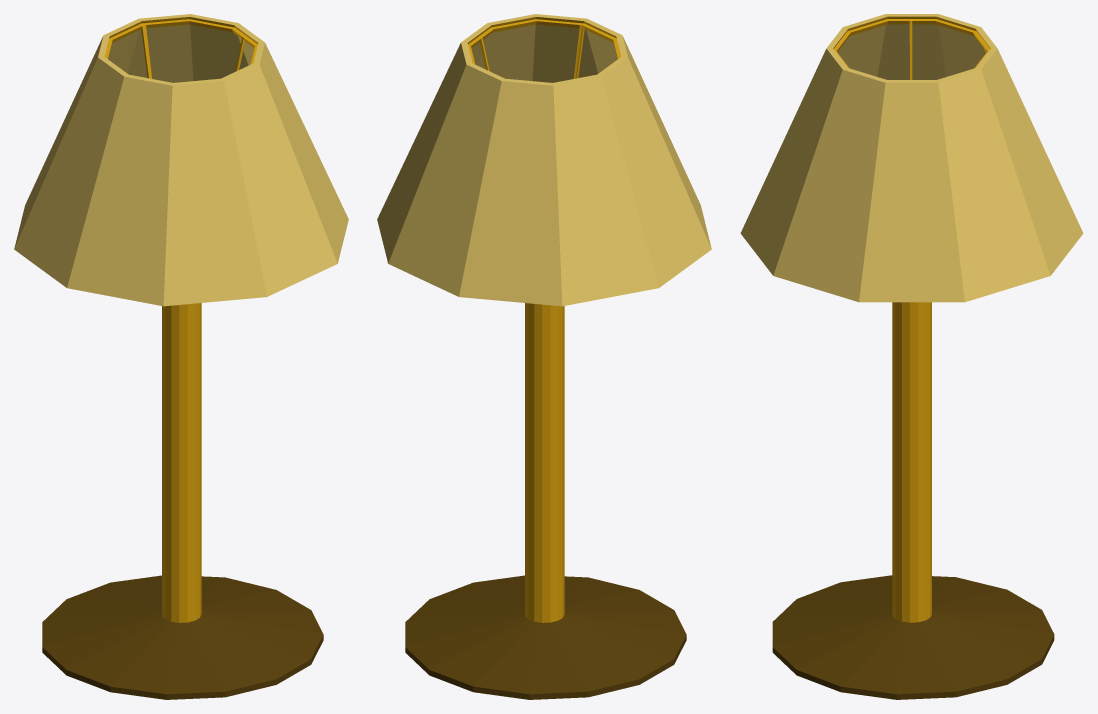
The model's file is Lampara.fbx.
3 renders of one model, left to right at view 1: azimuth 30°, elevation 25°; view 2: azimuth 150°, elevation 25°; view 3: azimuth 270°, elevation 25°, orthographic.
Parts seen in each view (by area): view 1: lampara; view 2: lampara; view 3: lampara.
Boxes of the visible parts, left/top/right/bottom form: lampara: left=14, top=14, right=348, bottom=699; lampara: left=377, top=14, right=711, bottom=699; lampara: left=740, top=14, right=1083, bottom=699.
Size of the model in its own units: 0.2809 by 0.5622 by 0.2954.
